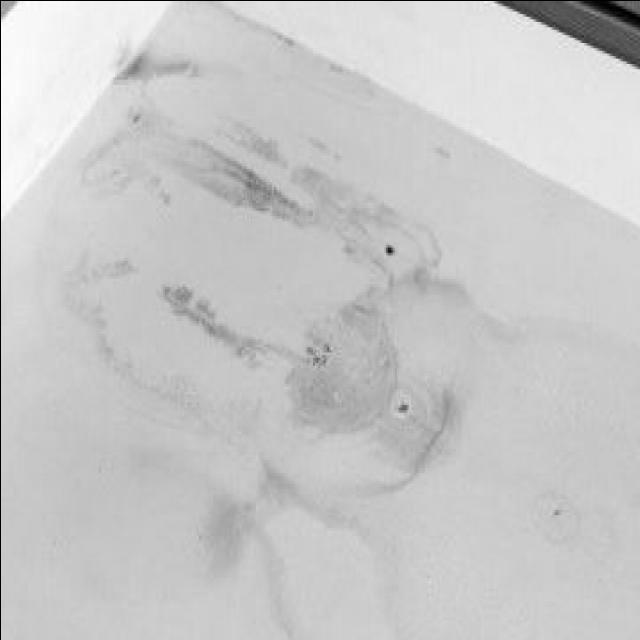pin holes: (381, 379, 416, 419), (370, 234, 403, 265), (121, 105, 154, 136), (544, 503, 573, 534)
stain marks: (286, 282, 486, 473), (78, 127, 324, 228), (320, 174, 455, 284), (155, 273, 298, 366), (194, 460, 292, 576), (271, 32, 384, 110), (64, 244, 128, 379), (103, 35, 208, 82)
